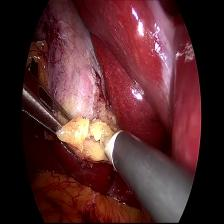Grasper: (21, 68, 74, 148)
Hook: (95, 114, 133, 170)
